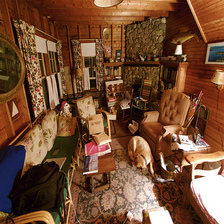laptop: (38, 152, 73, 177)
